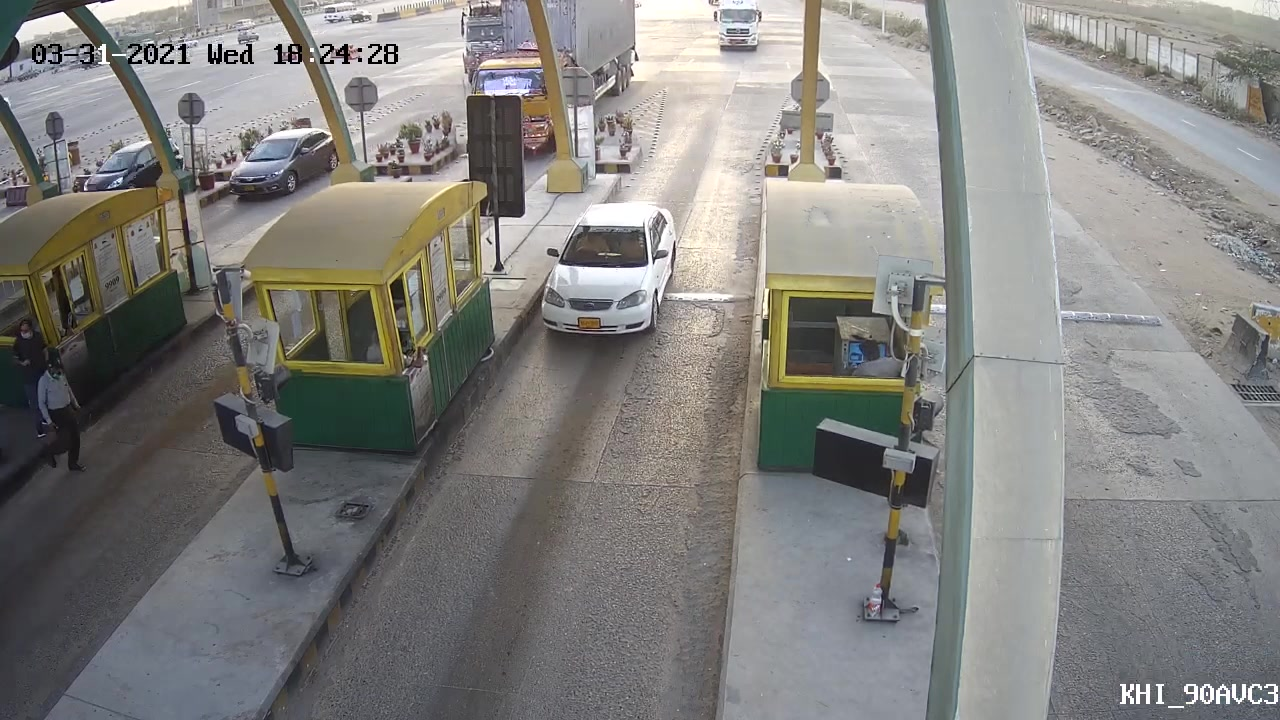F1: (532, 192, 686, 341)
